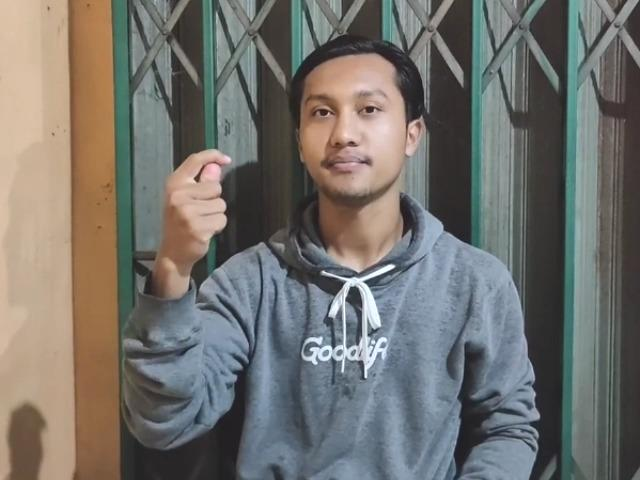T: (162, 146, 232, 264)
